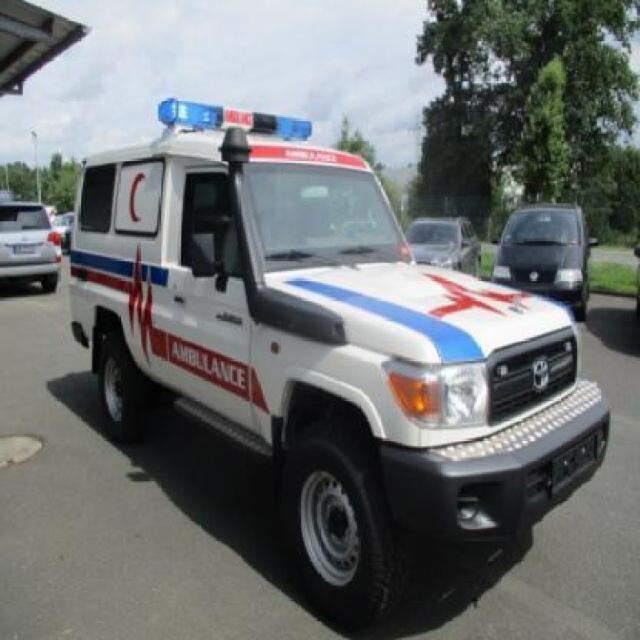emergency: (64, 96, 612, 630)
